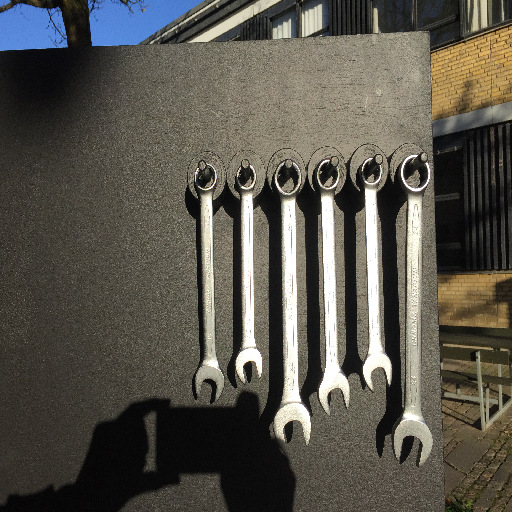bottom: (391, 415, 435, 468), (274, 402, 312, 448), (317, 370, 351, 415), (192, 361, 226, 403), (362, 352, 393, 393), (234, 347, 264, 386)
top: (398, 155, 433, 197), (273, 160, 303, 201), (358, 156, 385, 191), (314, 158, 340, 193), (192, 162, 220, 194), (234, 163, 258, 192)
